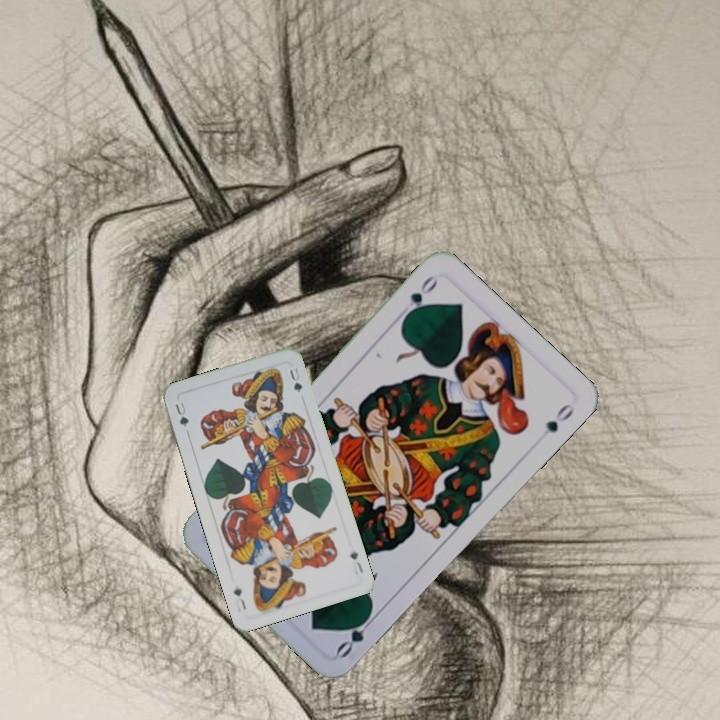GO: (332, 608, 379, 661), (397, 271, 441, 322)
GU: (171, 398, 191, 430), (346, 547, 366, 578)
